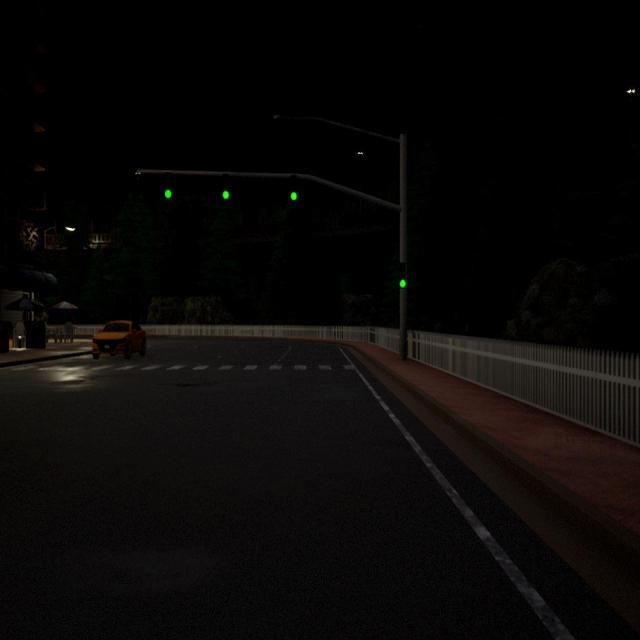Vehicle: (92, 321, 146, 358)
traffic_light: (290, 174, 298, 202), (222, 173, 230, 199), (398, 262, 406, 288), (165, 172, 172, 199)
